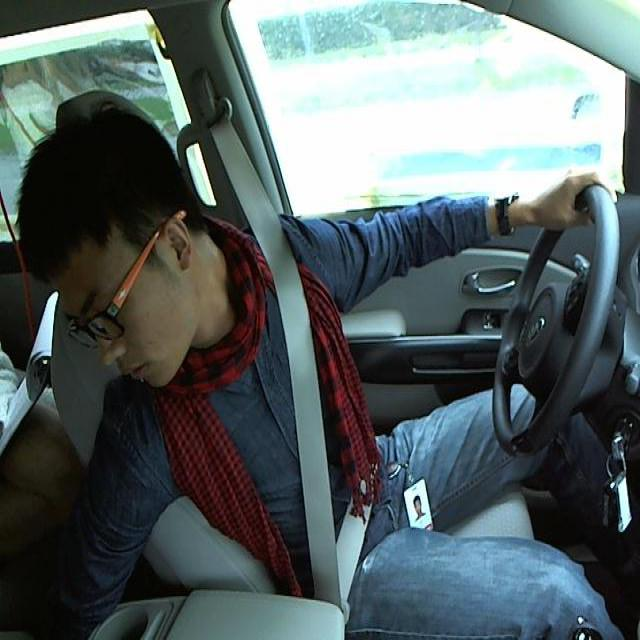seatbelt: (258, 236, 381, 587)
